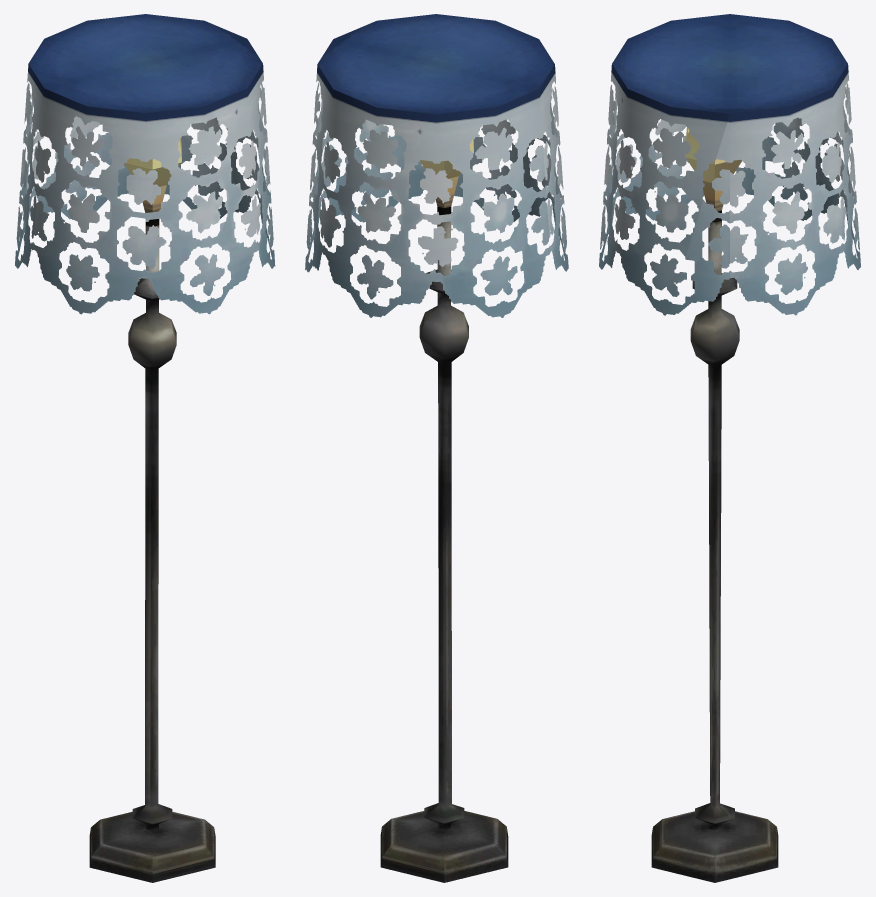
The model's file is furni_0201103_03.FBX.
3 views of the same model, side by side, from view 1: azimuth 30°, elevation 25°; view 2: azimuth 150°, elevation 25°; view 3: azimuth 270°, elevation 25° (orthographic).
Parts seen in each view (by area): view 1: furni_0201103_03; view 2: furni_0201103_03; view 3: furni_0201103_03.
Boxes of the visible parts, x1,y1,x2,y2 form: furni_0201103_03: (15, 14, 275, 882); furni_0201103_03: (305, 14, 568, 882); furni_0201103_03: (599, 14, 860, 882).
Size of the model in its own units: 50 by 165 by 50.
Materials: 1 (1 with a texture image).
